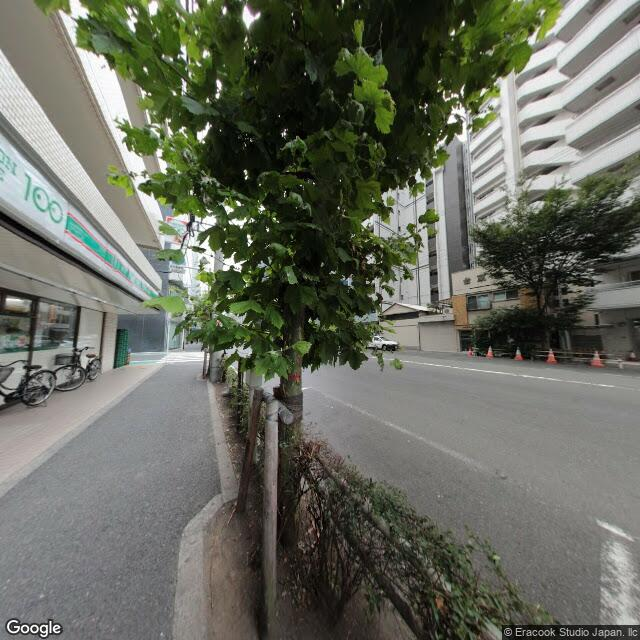lawson: (1, 133, 155, 308)
